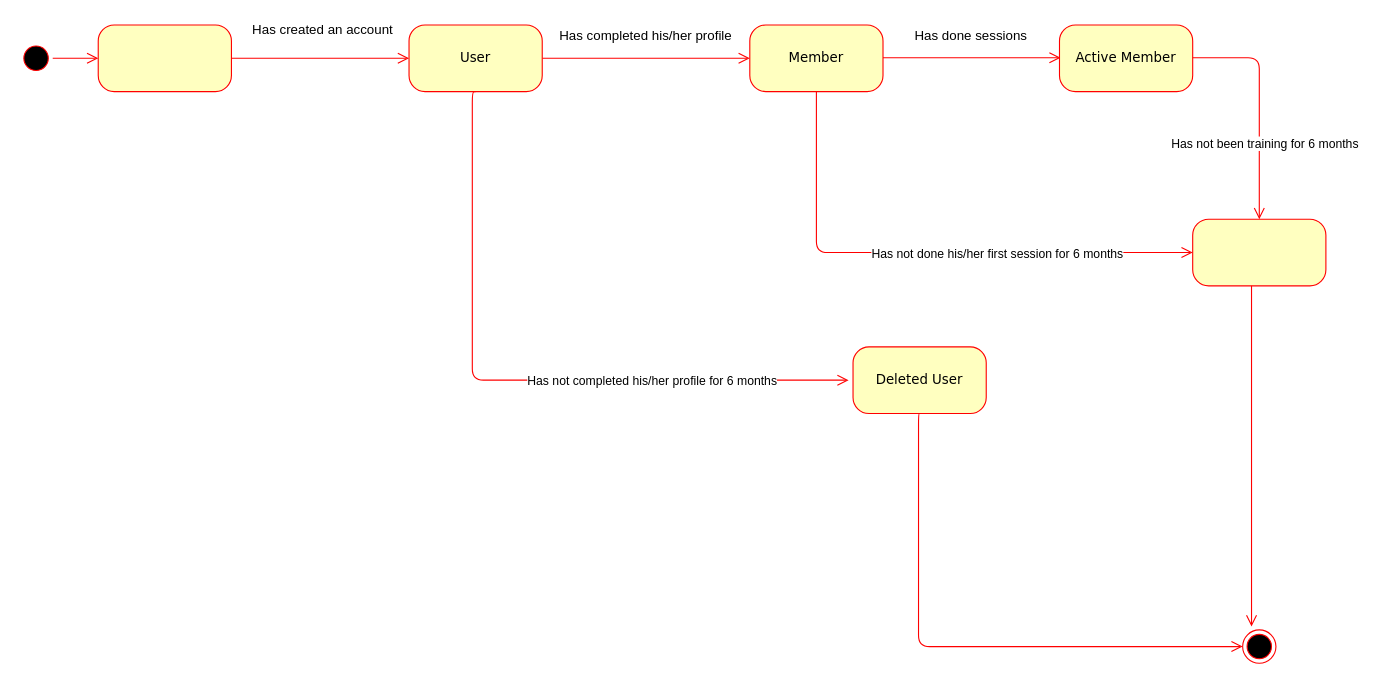
The diagram is 1378 pixels wide and 683 high, and some of its shapes have lost their labels. The shapes that lost their labels are listed below. From the top down, each one's centre as x and y in pixels, then its label:
point (164, 58): Visitor
point (1259, 252): Deleted Member
